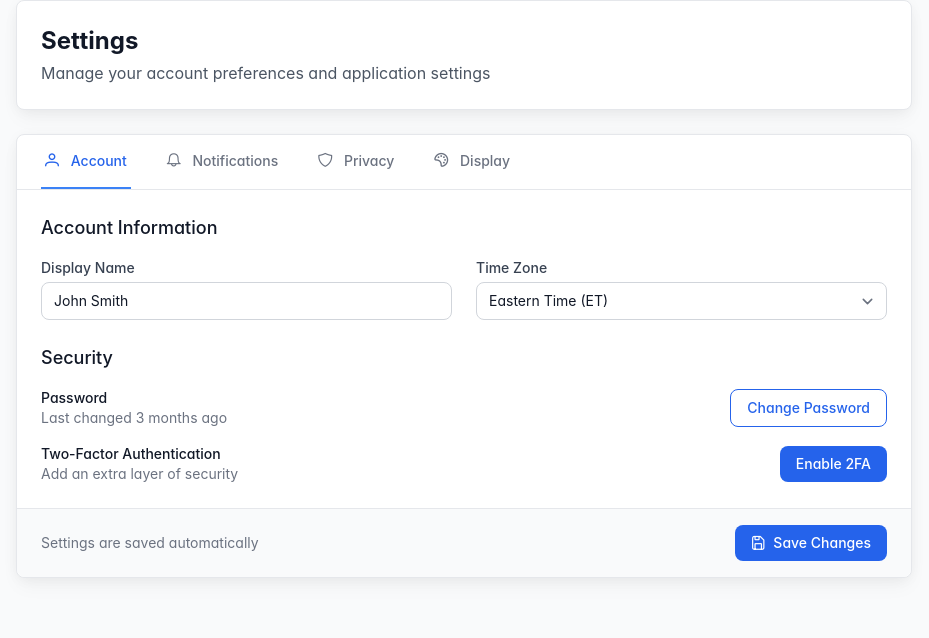
SettingsView › Tab Navigation › should switch to privacy tab when clicked
The width and height of the screenshot is (929, 638).
Click the button "Privacy".
click(356, 162)  # box [314,135,398,189]
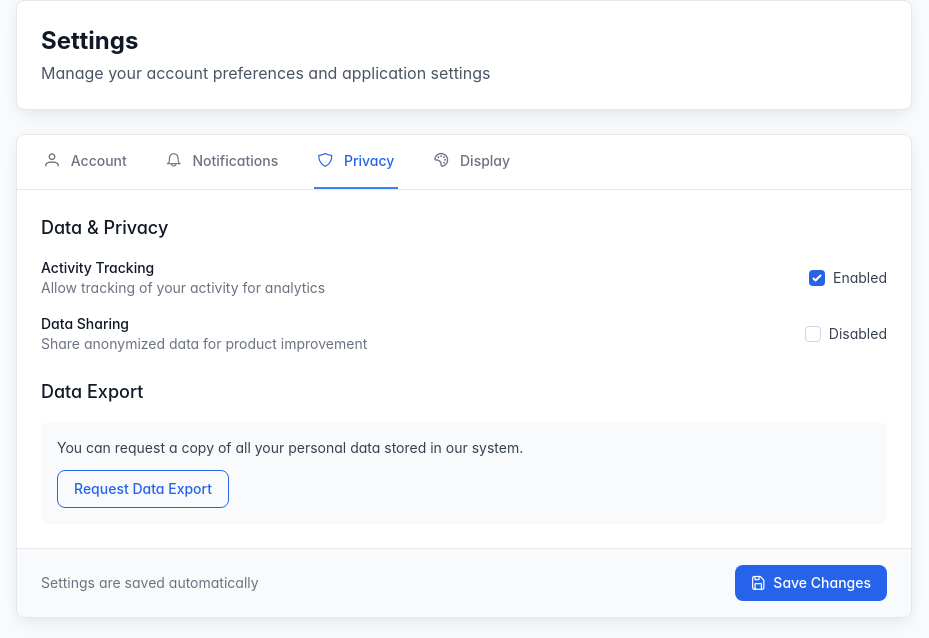
Expected: the text "Data & Privacy" is shown, [41,217,168,238]
Expected: the text "Activity Tracking" is shown, [41,259,154,276]
Expected: the text "Data Sharing" is shown, [41,315,129,332]
